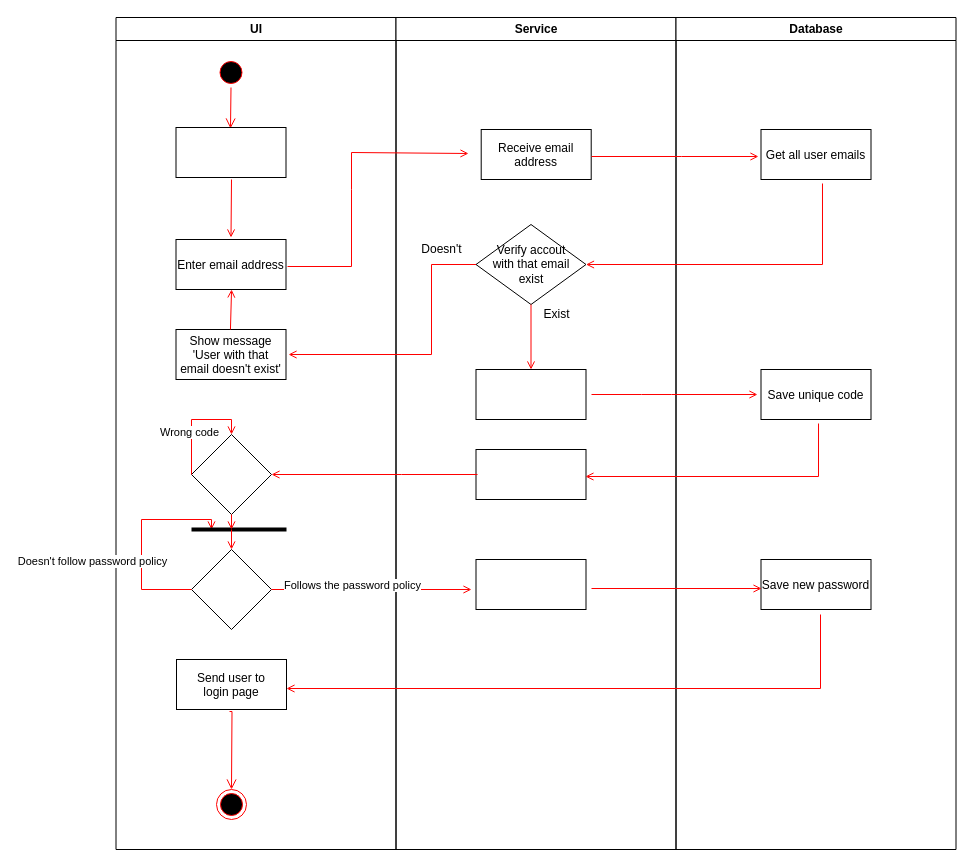
This 973x867 diagram has some shape labels left out. The shapes that lost their labels are listed below. From the top down, each one's centre as x and y in pixels, then its label:
At [230,152]: "Select recover password in the `Sign in` Page".
At [530,394]: "Generate unique code".
At [231,474]: "Enter unique code".
At [530,474]: "Send email to user's email with the unique code".
At [231,589]: "Enter new password".
At [530,584]: "Receive hash password".
